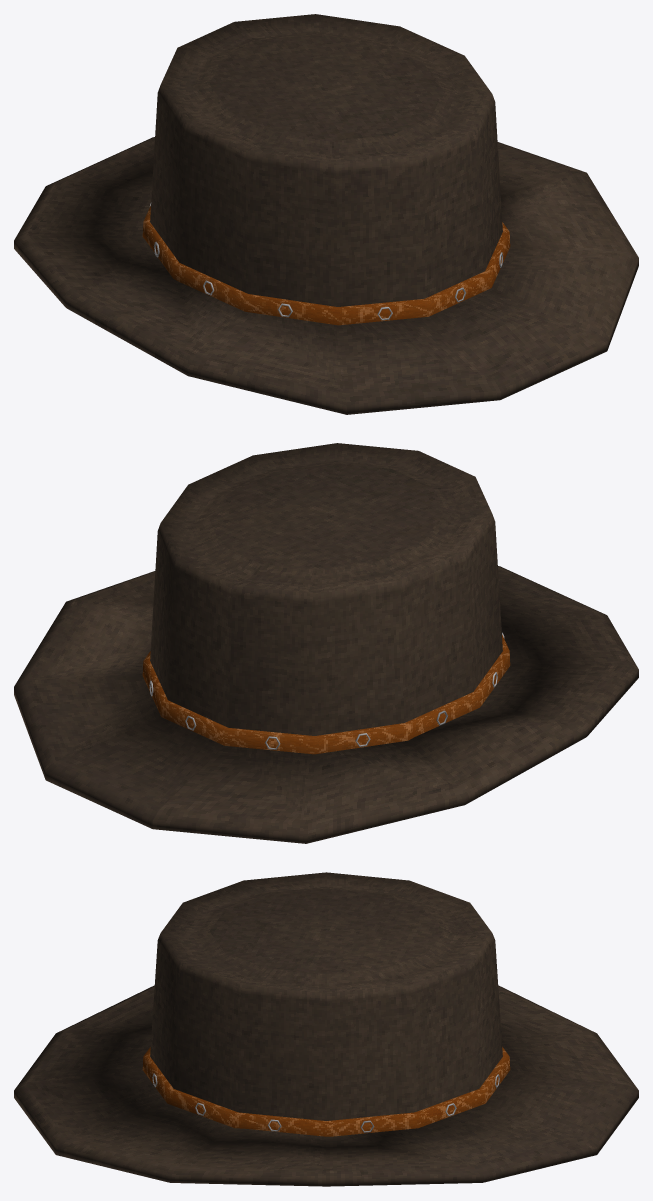
File: Hat.glb
3 renders of one model, top to bottom at view 1: azimuth 30°, elevation 25°; view 2: azimuth 150°, elevation 25°; view 3: azimuth 270°, elevation 25°, orthographic. The views are drawn at different scales.
Visible parts, largest first — view 1: Hat; view 2: Hat; view 3: Hat.
Boxes of the visible parts, bbox=[...] form: Hat: bbox=[14, 14, 638, 414]; Hat: bbox=[14, 443, 638, 843]; Hat: bbox=[14, 872, 638, 1186].
Bounding box in the file's own units: 0.2802 × 0.0953 × 0.3239.
1 material, 1 textured.
